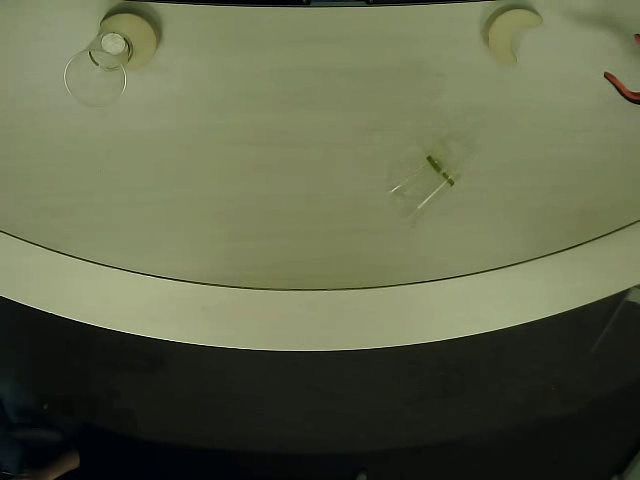Cup: (377, 147, 466, 232), (68, 29, 139, 106)
Deliver: (482, 1, 551, 76), (101, 8, 169, 74)
